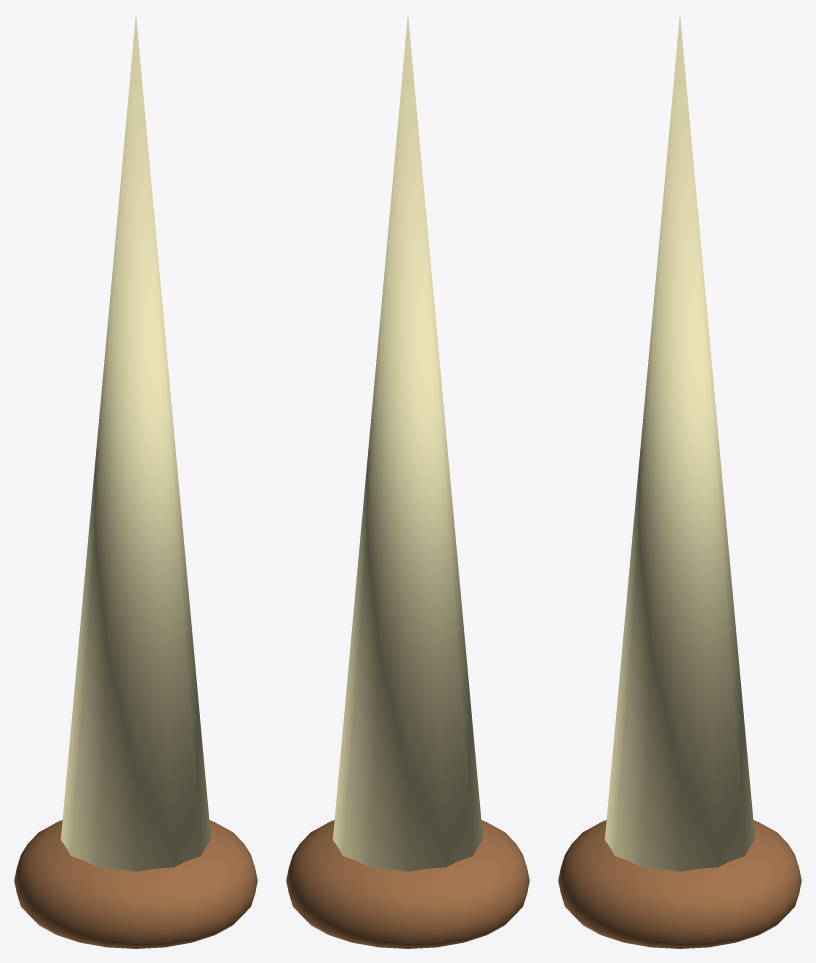
File: Unihorn.fbx
3 renders of one model, left to right at view 1: azimuth 30°, elevation 25°; view 2: azimuth 150°, elevation 25°; view 3: azimuth 270°, elevation 25°, orthographic.
Visible parts, largest first — view 1: Unihorn - Daniel Lochner; view 2: Unihorn - Daniel Lochner; view 3: Unihorn - Daniel Lochner.
Boxes of the visible parts, <box> form: Unihorn - Daniel Lochner: <box>14,16,257,948</box>; Unihorn - Daniel Lochner: <box>286,16,529,948</box>; Unihorn - Daniel Lochner: <box>558,16,801,948</box>.
Bounding box in the file's own units: 20.49 × 83.7 × 20.49.
